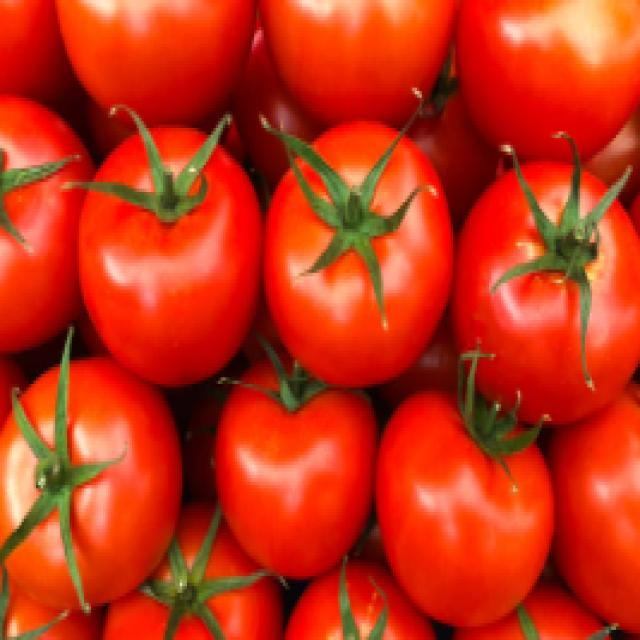Tomato: (374, 350, 552, 639), (81, 112, 268, 378), (466, 153, 640, 417), (274, 135, 451, 375), (4, 360, 173, 590), (216, 332, 359, 581)
